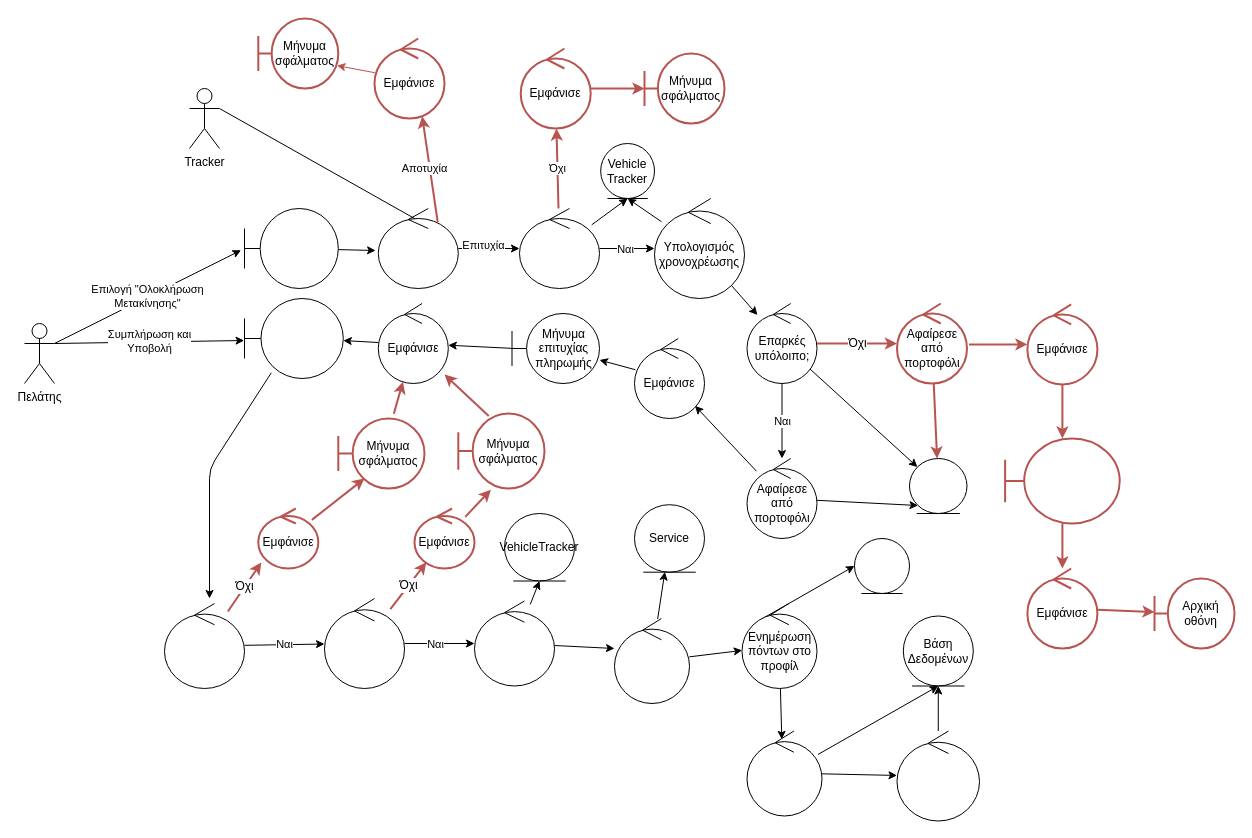
This 1252x838 diagram has some shape labels left out. The centre of each missing label's shape, as x and y in pixels:
"Customer" goes at point 882,566.
"Wallet" goes at point 937,486.
"Έχουν συμπληρωθεί όλα τα πεδία" goes at point 204,645.
"Αποθήκευση μετακίνησης" goes at point 938,775.
"Είναι το όχημα σταματημένο" goes at point 559,248.
"Ενημέρωση πόντων διαδρομής" goes at point 652,661.
"Ενημέρωση πόντων στη βάση" goes at point 784,773.
"Επιβεβαίωση ασφάλισης οχήματος" goes at point 293,338.
"Επικοινωνία με tracker" goes at point 417,248.
"Οθόνη Μετακίνησης" goes at point 291,248.
"Προειδοποιητικό μήνυμα" goes at point 1062,480.
"Υπολογισμός πόντων" goes at point 514,643.
"Φωτογραφίες εντός ορίου μεγέθους;" goes at point 364,643.
